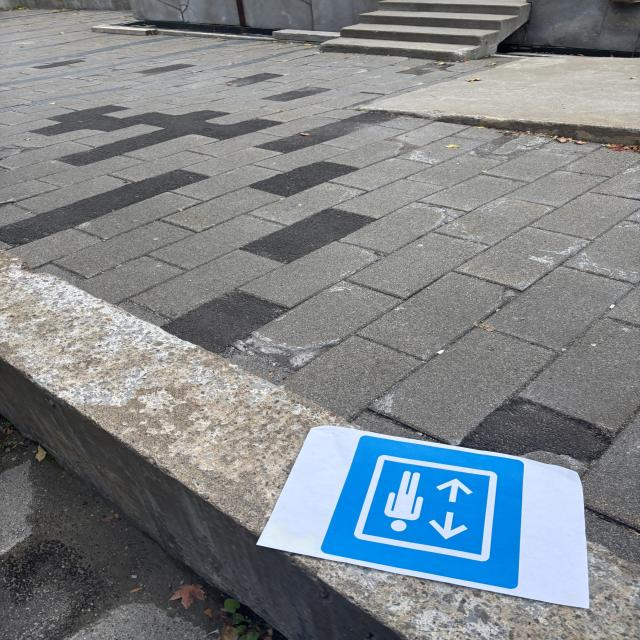elevator: (324, 431, 524, 587)
